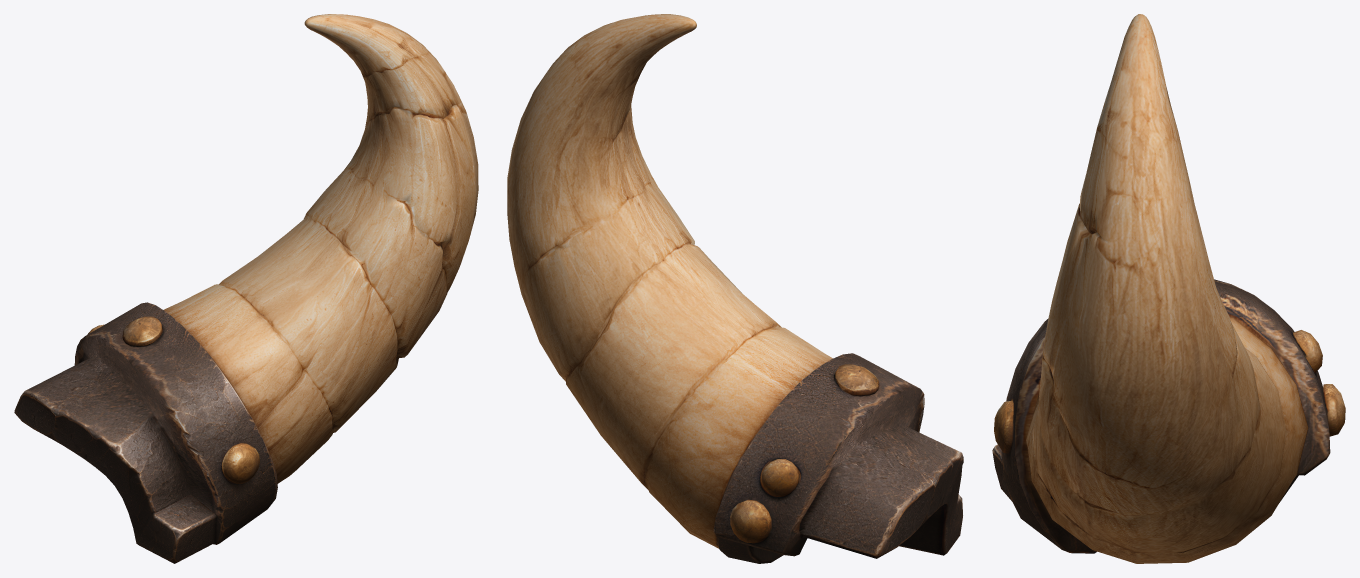
The model's file is ram_horn_3d_model.fbx.
3 views of the same model, side by side, from view 1: azimuth 30°, elevation 25°; view 2: azimuth 150°, elevation 25°; view 3: azimuth 270°, elevation 25° (orthographic). The views are drawn at different scales.
Visible parts, largest first — view 1: tripo_13bd7051_ffd3_451d_91ad_3531ead25ba6; view 2: tripo_13bd7051_ffd3_451d_91ad_3531ead25ba6; view 3: tripo_13bd7051_ffd3_451d_91ad_3531ead25ba6.
Part boxes in pixels (<box>): tripo_13bd7051_ffd3_451d_91ad_3531ead25ba6: <box>14,14,478,563</box>; tripo_13bd7051_ffd3_451d_91ad_3531ead25ba6: <box>507,14,963,563</box>; tripo_13bd7051_ffd3_451d_91ad_3531ead25ba6: <box>992,14,1345,563</box>.
Size of the model in its own units: 0.9087 by 0.9995 by 0.5376.
